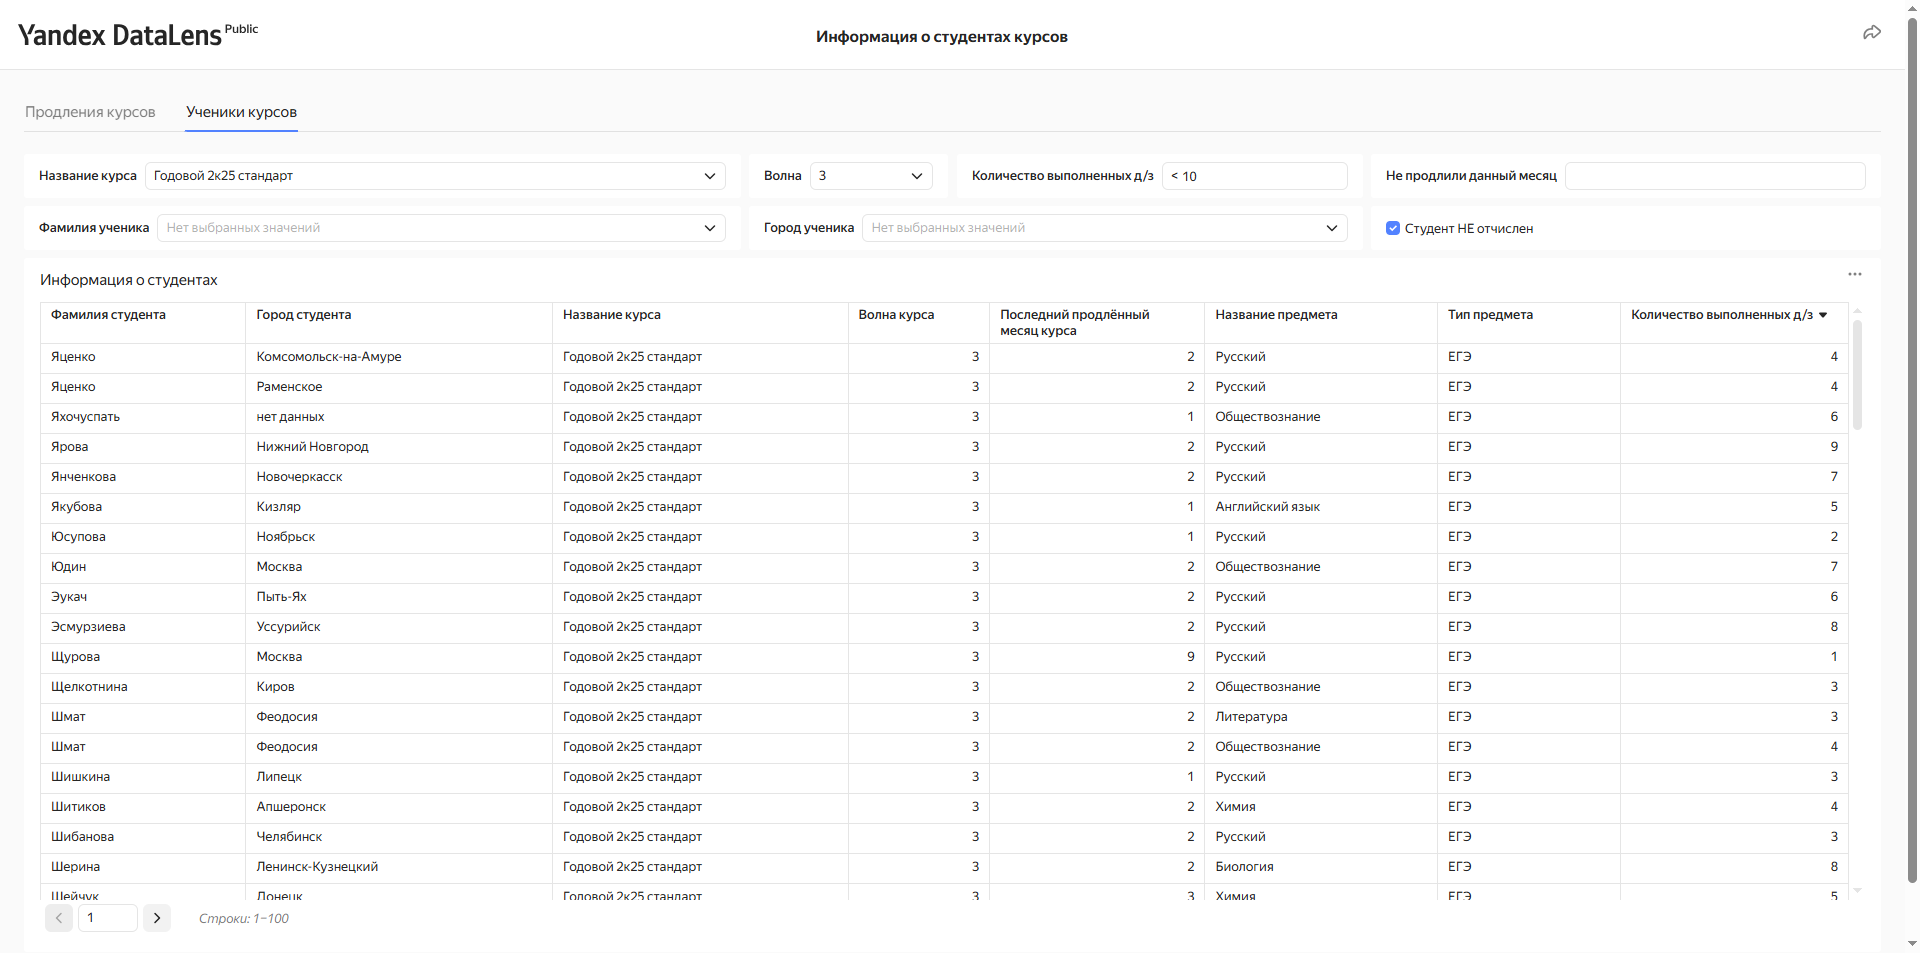

This screenshot's page, from the dashboard's own definition file:
{"tool":"powerbi","page":{"name":"Student Information","canvas":[1920,1080],"ordinal":1},"visuals":[{"type":"tableEx","fields":{"Values":["test_dataset.user_last_name","test_dataset.city_name","test_dataset.course_name","test_dataset.wave","test_dataset.user_course_month_count","test_dataset.subject_name","test_dataset.subject_type","test_dataset.homework_done_on_course_by_user"]},"box":[0,125.1,1920.3,956.2],"z":0},{"type":"slicer","fields":{"Values":["test_dataset.course_name"]},"box":[0,0,353,125.1],"z":1000},{"type":"slicer","fields":{"Values":["test_dataset.wave"]},"box":[353,0,200.2,125.1],"z":2000},{"type":"slicer","fields":{"Values":["test_dataset.city_name"]},"box":[553.2,0,376.7,125.1],"z":3000},{"type":"slicer","fields":{"Values":["test_dataset.month_not_proceeded"]},"box":[929.3,0,490.6,125],"z":4000},{"type":"slicer","fields":{"Values":["test_dataset.hw_done_less_than"]},"box":[1420,0,500,125],"z":5000}]}

Visuals, with their boxes on the page's 1920x1080 design canvas (x1, y1, x2, y2). These are canvas units, not pixel positions in the 1920x953 screenshot, which may show the page scaled, cropped or inside an application window:
tableEx - test_dataset.user_last_name x test_dataset.city_name: left=0, top=125, right=1920, bottom=1081
slicer - test_dataset.course_name: left=0, top=0, right=353, bottom=125
slicer - test_dataset.wave: left=353, top=0, right=553, bottom=125
slicer - test_dataset.city_name: left=553, top=0, right=930, bottom=125
slicer - test_dataset.month_not_proceeded: left=929, top=0, right=1420, bottom=125
slicer - test_dataset.hw_done_less_than: left=1420, top=0, right=1920, bottom=125
